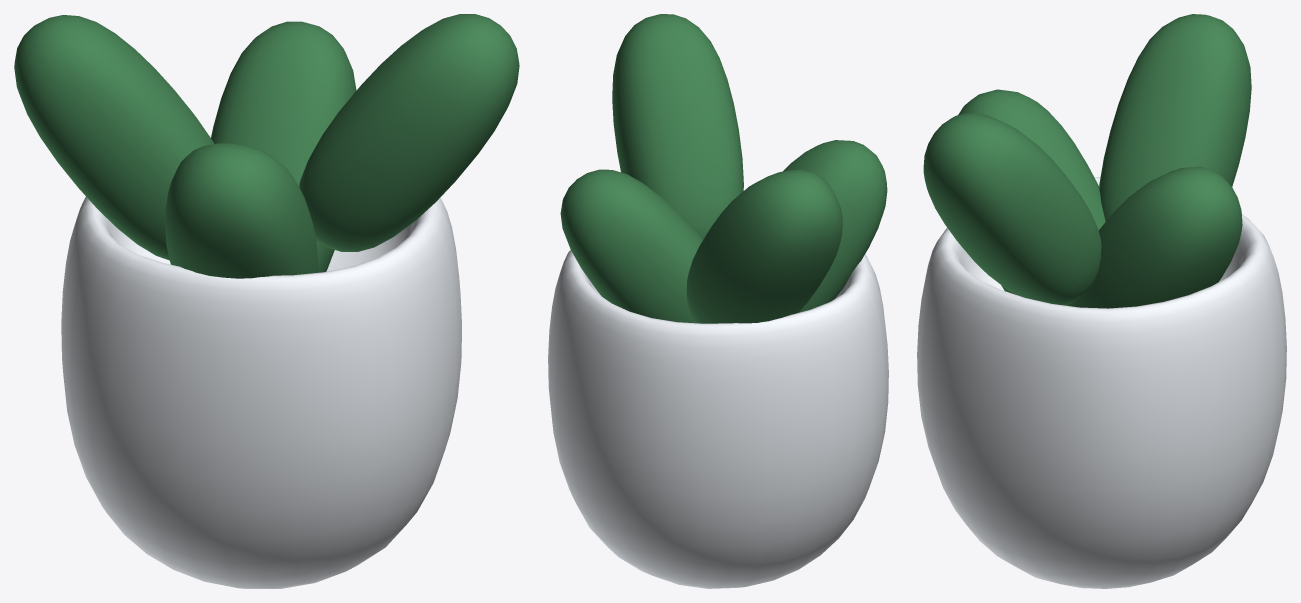
Rendered from vaso-planta.fbx.
3 renders of one model, left to right at view 1: azimuth 30°, elevation 25°; view 2: azimuth 150°, elevation 25°; view 3: azimuth 270°, elevation 25°, orthographic. The views are drawn at different scales.
Parts seen in each view (by area): view 1: Cube, Subdivision_Surface_1_2, Subdivision_Surface_1, Subdivision_Surface_1_4, Subdivision_Surface_1_3; view 2: Cube, Subdivision_Surface_1_2, Subdivision_Surface_1, Subdivision_Surface_1_3, Subdivision_Surface_1_4; view 3: Cube, Subdivision_Surface_1_2, Subdivision_Surface_1, Subdivision_Surface_1_3, Subdivision_Surface_1_4.
Part boxes in pixels (x1=…): Cube: x1=61, y1=135, x2=461, y2=588; Subdivision_Surface_1_2: x1=299, y1=14, x2=519, y2=251; Subdivision_Surface_1: x1=14, y1=15, x2=214, y2=260; Subdivision_Surface_1_4: x1=164, y1=143, x2=318, y2=278; Subdivision_Surface_1_3: x1=211, y1=21, x2=356, y2=272; Cube: x1=548, y1=250, x2=888, y2=588; Subdivision_Surface_1_2: x1=612, y1=14, x2=743, y2=239; Subdivision_Surface_1: x1=686, y1=170, x2=842, y2=323; Subdivision_Surface_1_3: x1=560, y1=169, x2=702, y2=323; Subdivision_Surface_1_4: x1=783, y1=140, x2=887, y2=312; Cube: x1=917, y1=177, x2=1286, y2=588; Subdivision_Surface_1_2: x1=923, y1=113, x2=1101, y2=305; Subdivision_Surface_1: x1=1099, y1=14, x2=1251, y2=221; Subdivision_Surface_1_3: x1=1067, y1=166, x2=1242, y2=308; Subdivision_Surface_1_4: x1=958, y1=89, x2=1105, y2=305.
Size of the model in its own units: 64.97 by 94.92 by 62.14.
